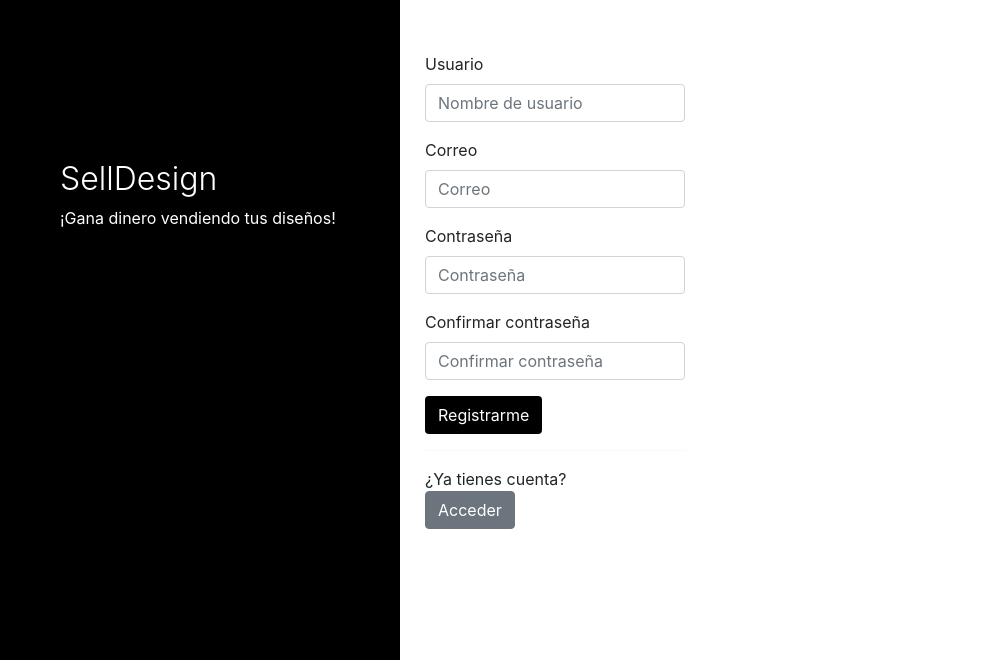
Test: RegisterComponent › No deja Registrar sin terminacion de email
The width and height of the screenshot is (1000, 660).
Step 1. Type "test" into the field named "username" → point(555, 103), box [425,84,685,122]
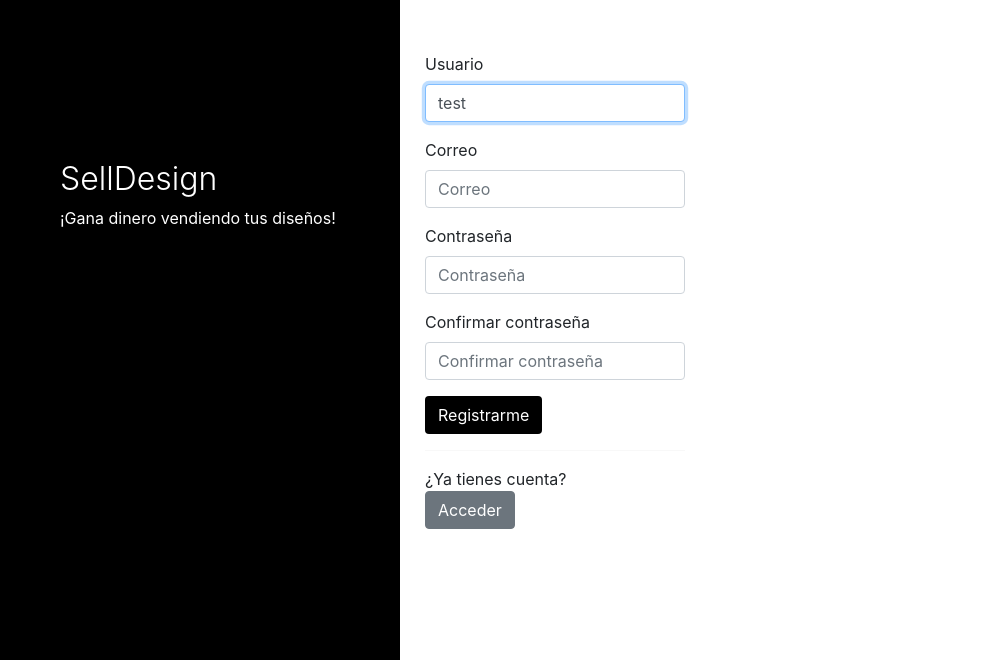
Step 2. Type "test1@cfefwe" into the field named "email" → point(555, 189), box [425,170,685,208]
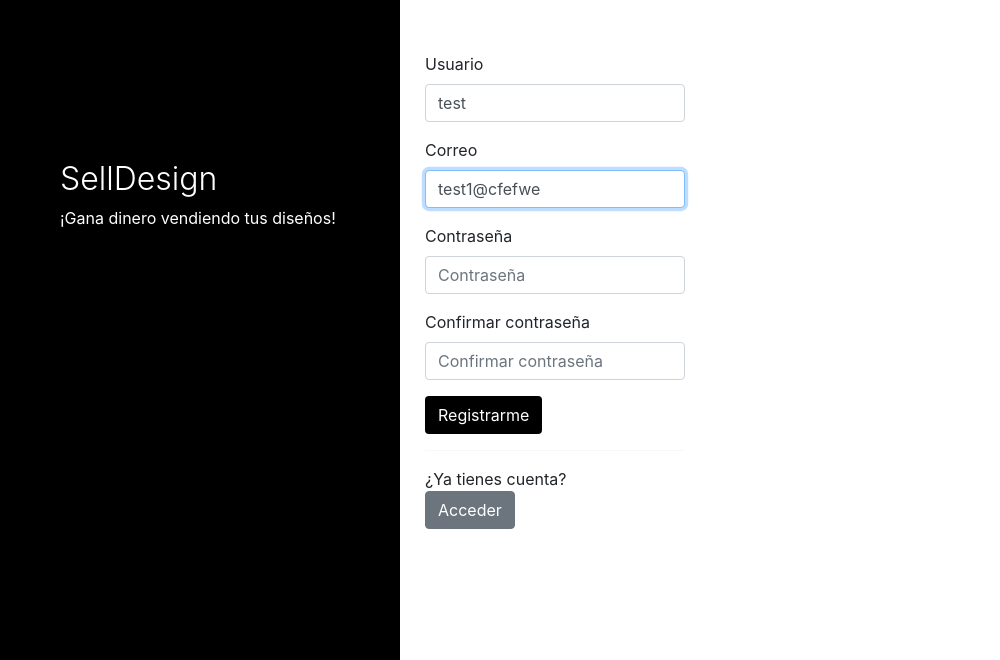
Step 3. Type "Micon2" into the password field named "password" → point(555, 275), box [425,256,685,294]
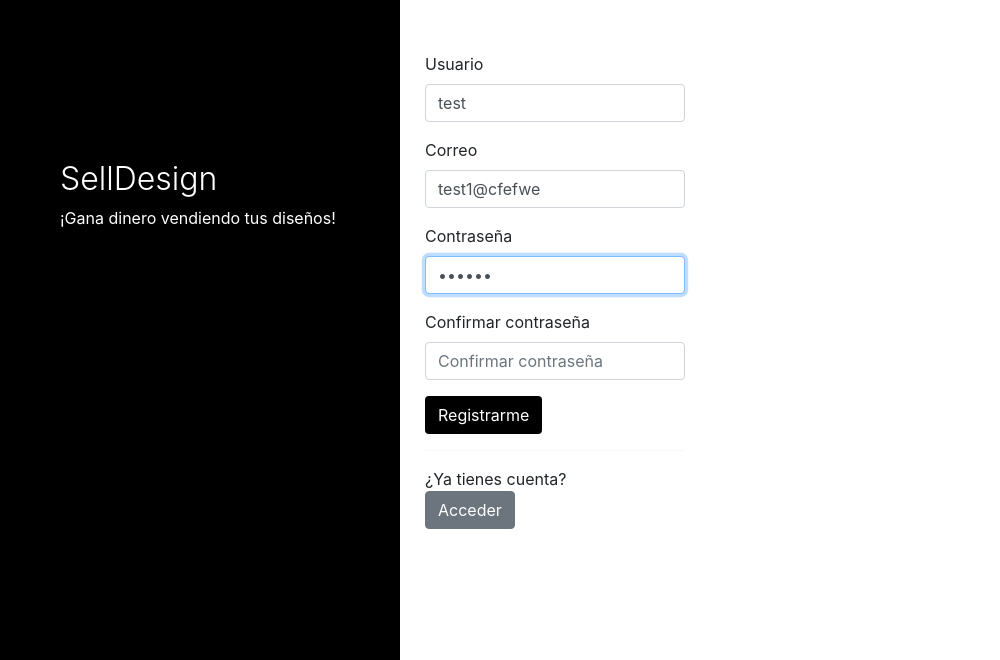
Step 4. Type "Micon2" into the password field named "confirmPassword" → point(555, 361), box [425,342,685,380]
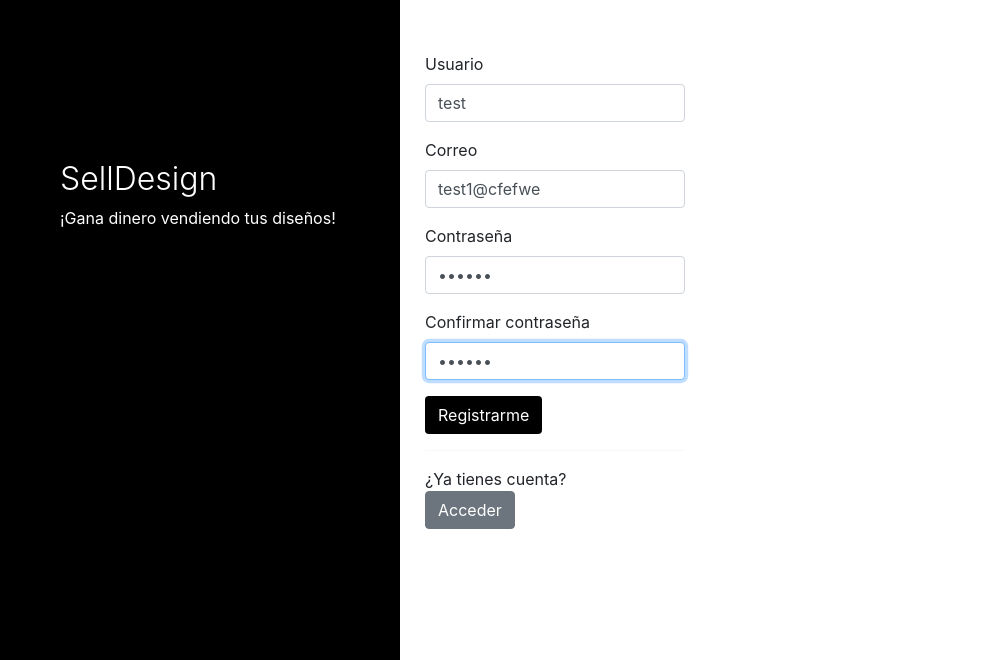
Step 5. Click the button with class "btn-black" → point(484, 415), box [425,396,542,434]
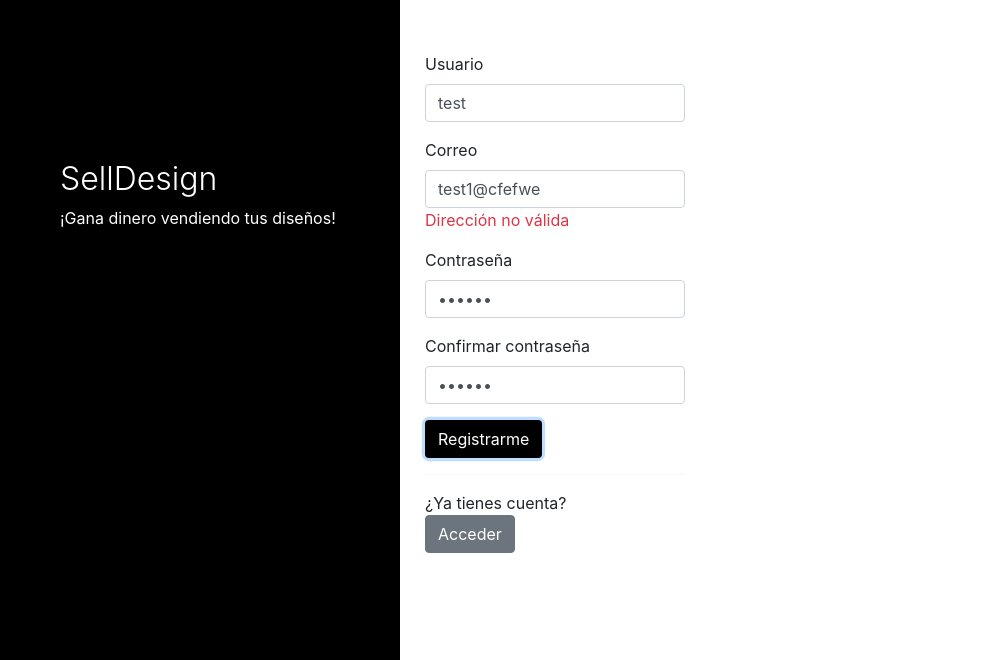
Expected: the text "Dirección no válida" is shown, [425,210,569,230]
